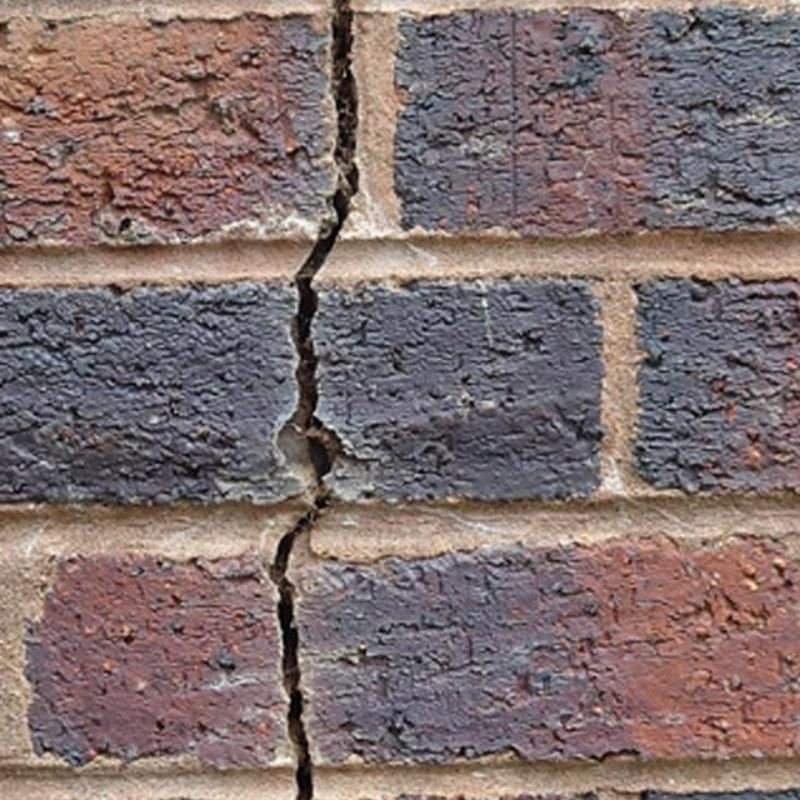crack: (270, 0, 358, 799)
